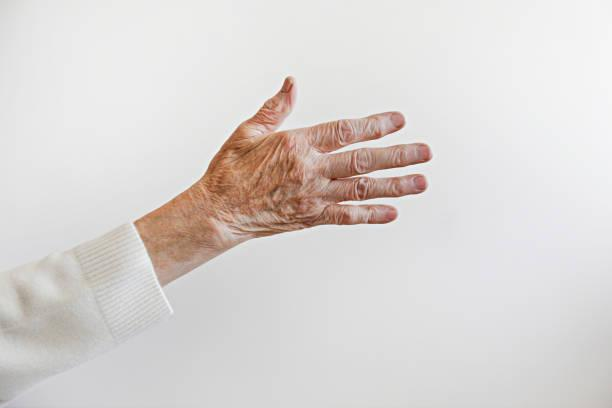Dry-Skin: (218, 148, 354, 232)
